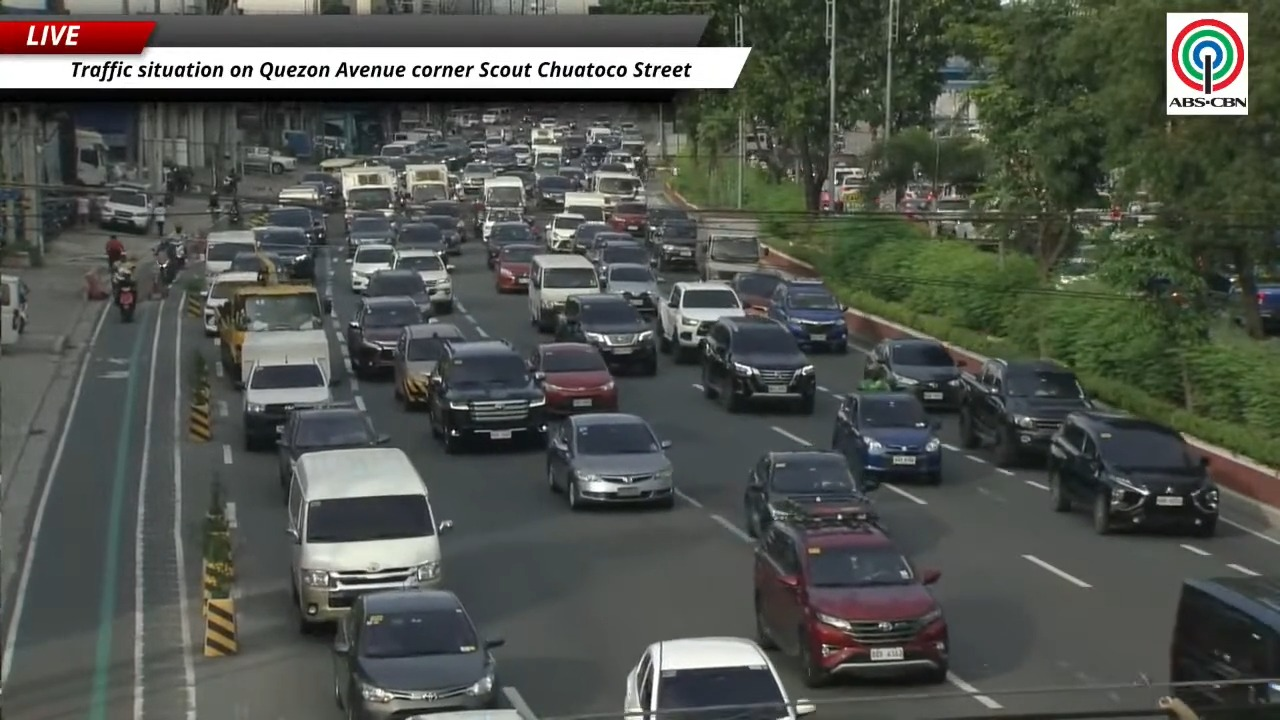car: (754, 515, 949, 686), (333, 588, 503, 719), (1048, 411, 1218, 536), (624, 637, 815, 719), (1169, 576, 1279, 717), (427, 340, 546, 453), (547, 413, 674, 509), (744, 450, 875, 537), (701, 317, 816, 414), (831, 392, 942, 484), (277, 404, 389, 490), (237, 352, 332, 451), (554, 293, 657, 375), (864, 338, 961, 408), (529, 342, 618, 414), (393, 322, 464, 407), (347, 297, 422, 377), (767, 279, 847, 353), (393, 248, 453, 314), (202, 270, 258, 336), (363, 268, 433, 317), (601, 263, 660, 317), (253, 227, 314, 279), (730, 269, 785, 314), (486, 221, 537, 269), (494, 243, 541, 293), (650, 220, 697, 270), (587, 239, 650, 274), (350, 244, 395, 293), (267, 206, 325, 243), (575, 230, 639, 263), (421, 200, 469, 242), (347, 215, 396, 255), (413, 215, 461, 254), (395, 219, 447, 252), (545, 213, 585, 251), (482, 208, 526, 241), (647, 205, 689, 237), (610, 202, 647, 238), (535, 175, 573, 208), (572, 221, 611, 253), (461, 162, 495, 196), (301, 172, 340, 201), (227, 251, 278, 273), (559, 166, 586, 190), (597, 158, 631, 174), (532, 157, 559, 177)
motorcycle: (116, 282, 136, 322), (228, 204, 241, 226)
truck: (959, 359, 1093, 466), (217, 278, 331, 380), (238, 331, 334, 450), (657, 282, 746, 362), (237, 330, 332, 382), (695, 231, 767, 280), (341, 166, 398, 223), (99, 183, 154, 233), (74, 128, 110, 186), (404, 164, 454, 204), (591, 171, 642, 206), (240, 146, 296, 174), (483, 176, 526, 211), (563, 193, 607, 221), (531, 142, 562, 164)
